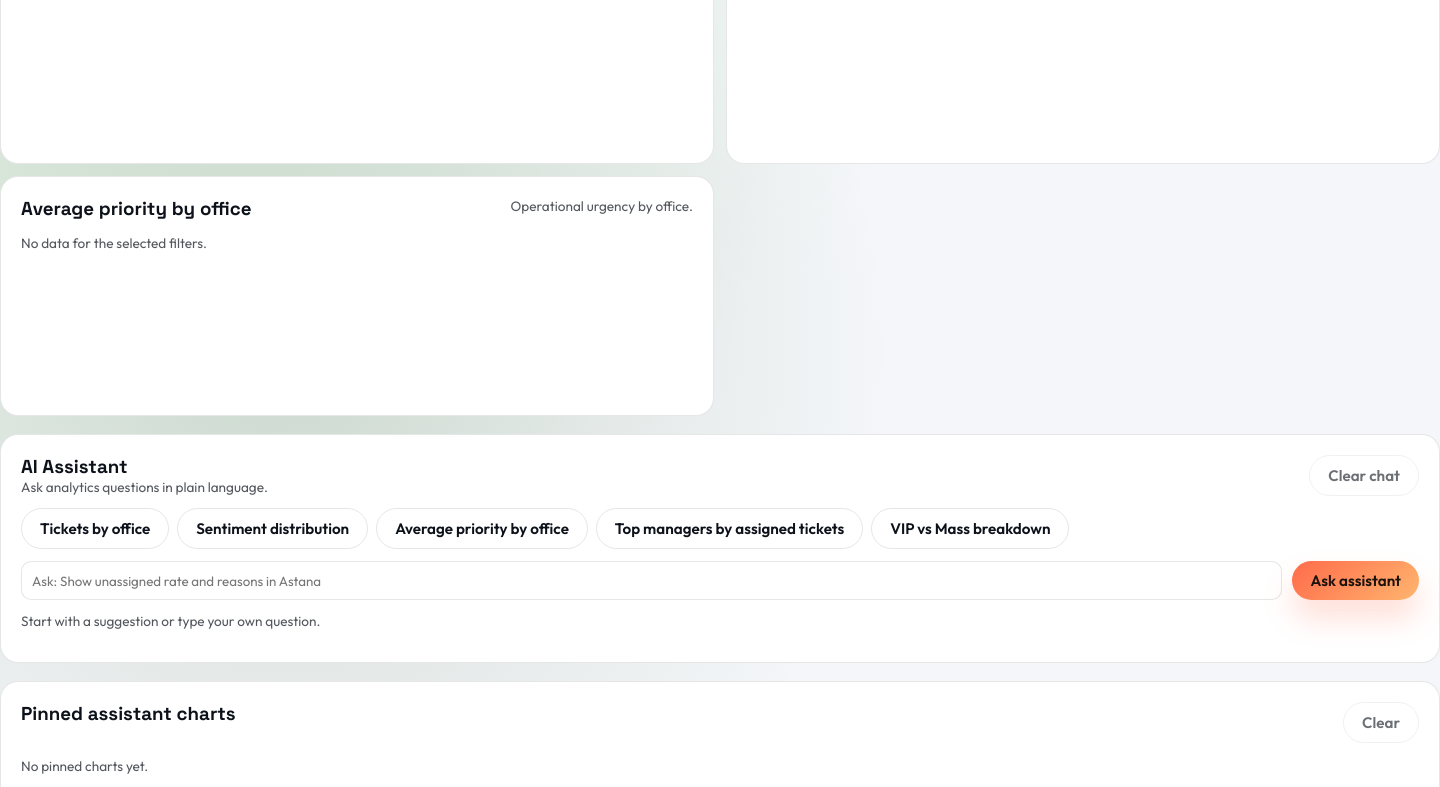
AnalyticsPage assistant › renders clarification options
The image size is (1440, 787).
(page scrolled)
Type "покажи статистику" into the field with placeholder "Ask: Show unassigned rate and reasons in Astana" at (652, 580), box [21,561,1282,600]
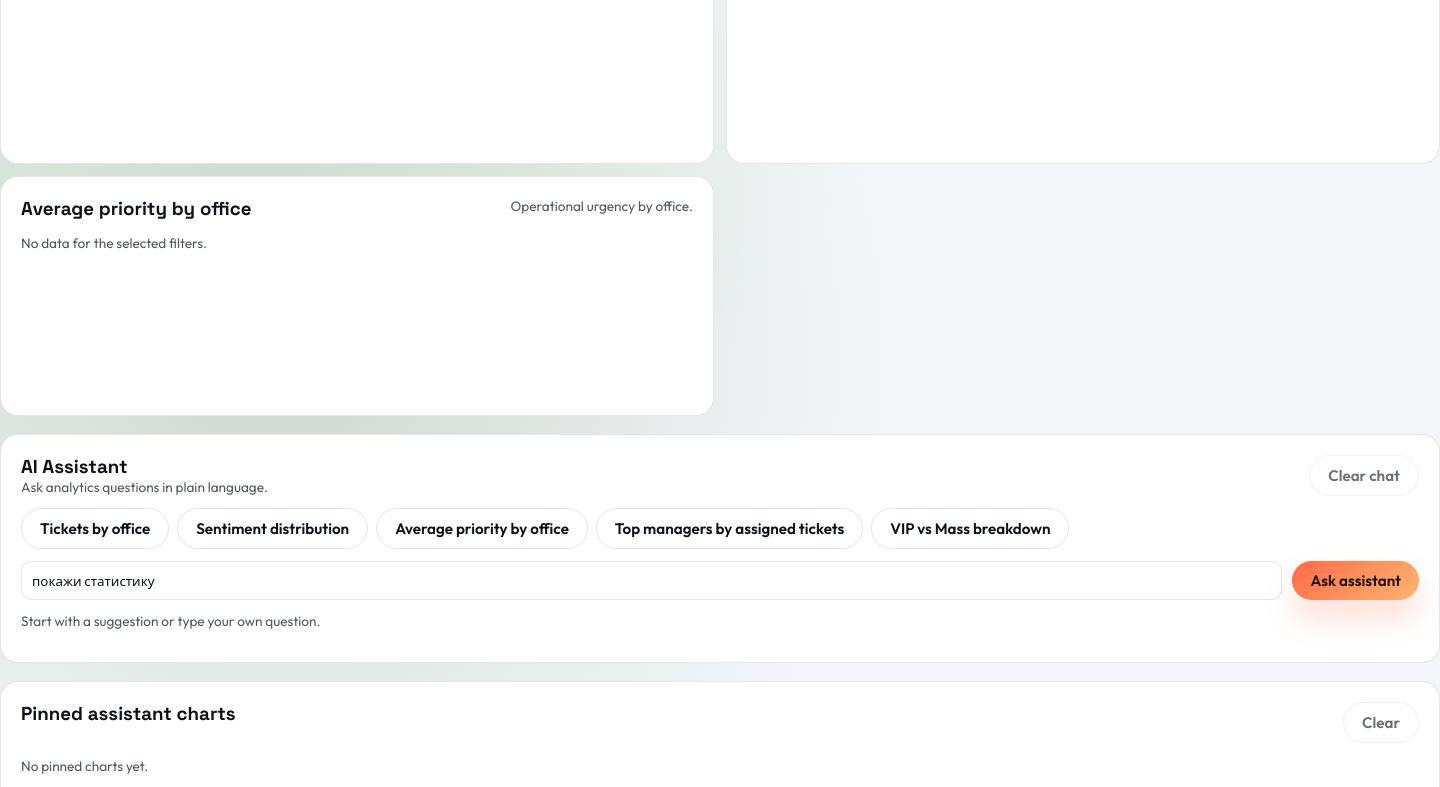
Click the button "Ask assistant" at (1356, 580), box [1292,561,1419,600]
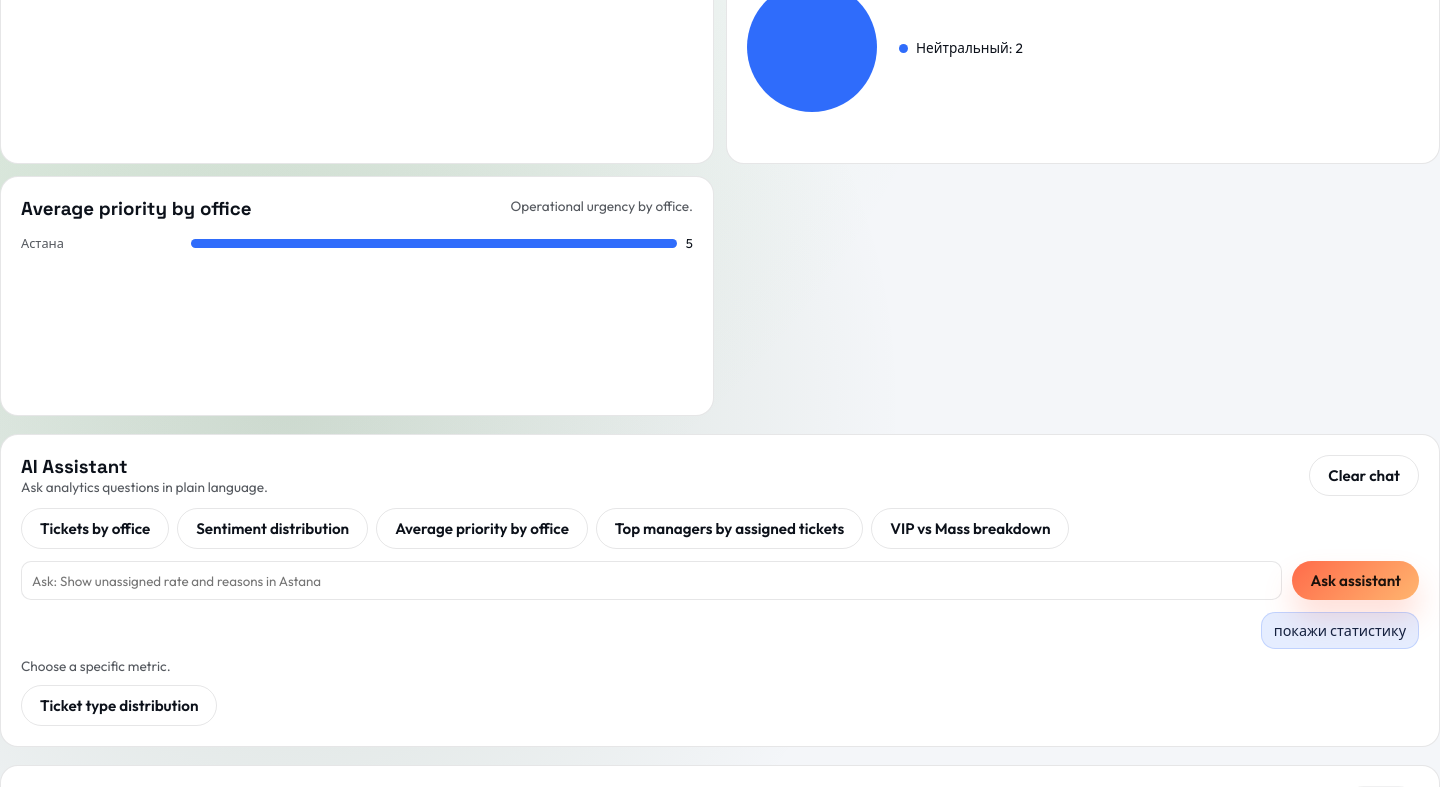
Check: the text "Choose a specific metric." is shown, box [21,657,171,675]
Check: the button "Ticket type distribution" is shown, box [21,685,218,726]
